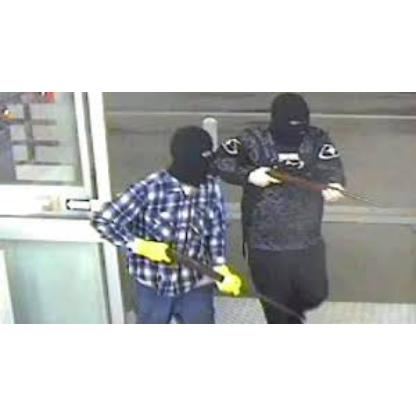gun: (125, 232, 321, 322), (214, 152, 388, 212)
